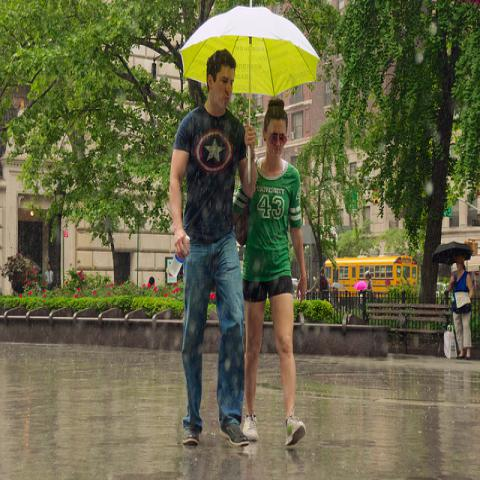bus: (324, 252, 420, 298)
